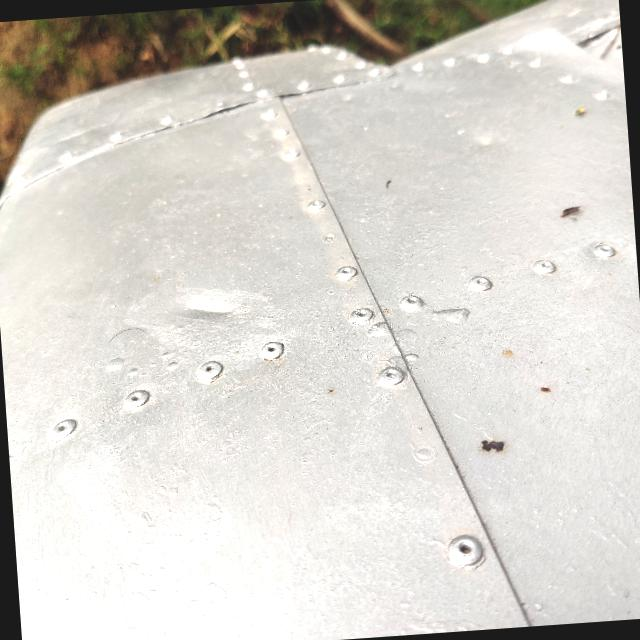dent: (156, 260, 266, 357)
